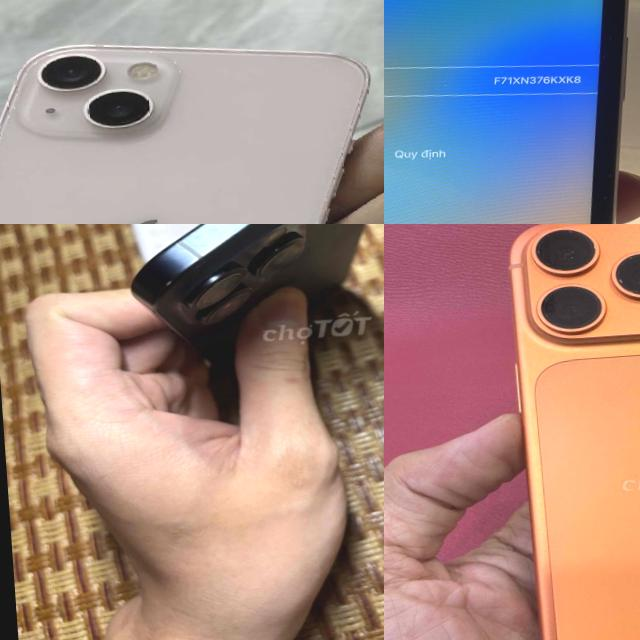gen_12_13: (0, 16, 384, 224)
gen_15: (101, 224, 384, 370)
gen_17: (488, 224, 640, 640)
gen_x_xs: (384, 0, 640, 224)
